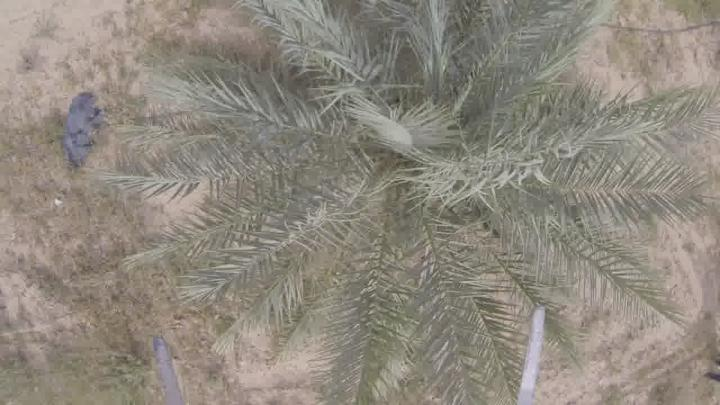Date-Palm-Crown: (246, 6, 566, 312)
